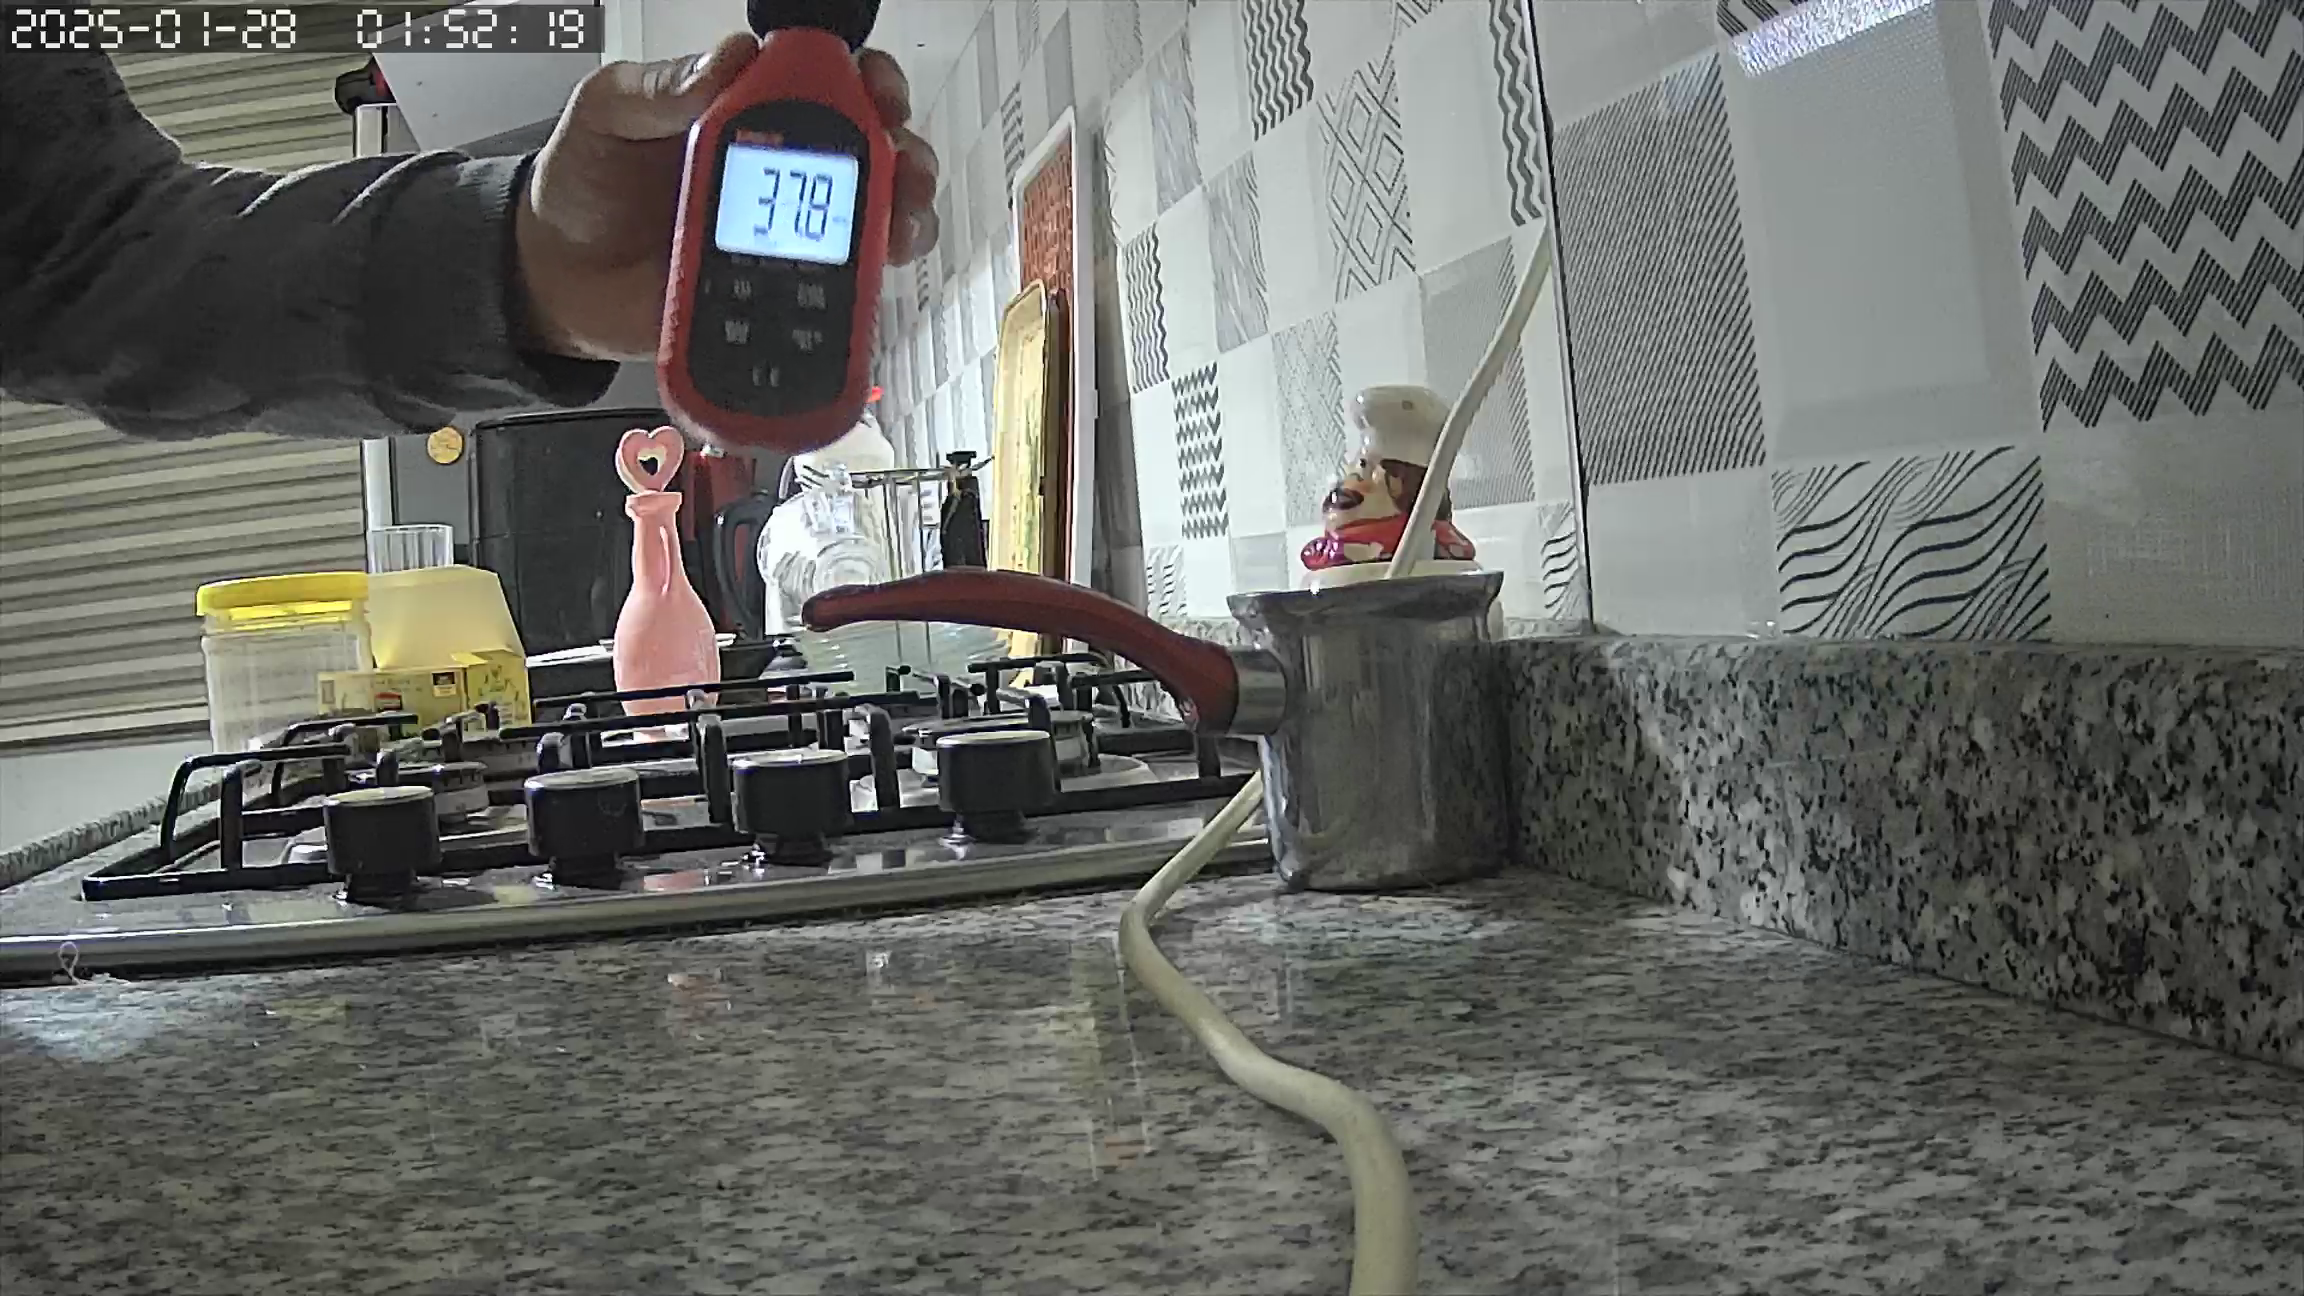screen: (715, 142, 859, 267)
